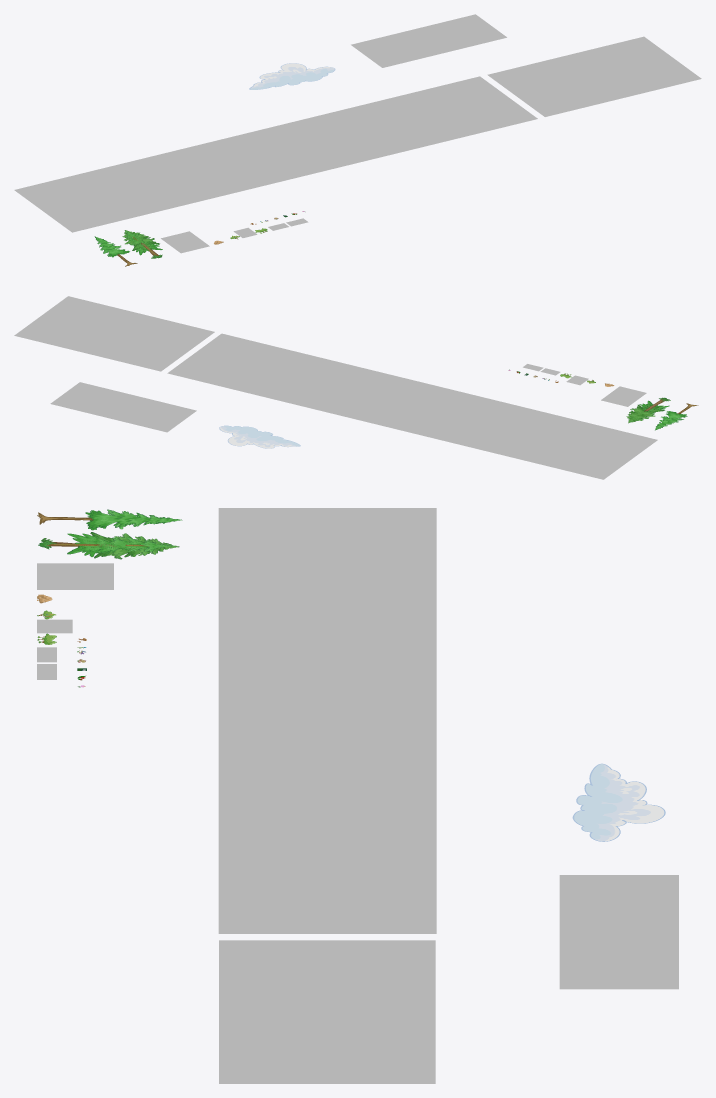
The model's file is bilboards_01.FBX.
3 renders of one model, top to bottom at view 1: azimuth 30°, elevation 25°; view 2: azimuth 150°, elevation 25°; view 3: azimuth 270°, elevation 25°, orthographic. The views are drawn at different scales.
Visible parts, largest first — view 1: mountain, bg_01, clouds_02, clouds_01, tree_04b; view 2: mountain, bg_01, clouds_02, clouds_01, tree_04b, tree_01b; view 3: mountain, bg_01, clouds_02, clouds_01, tree_04b, tree_02b, tree_03b.
Boxes of the visible parts, x1,y1,x2,y2 form: mountain: (14, 76, 537, 232); bg_01: (487, 36, 701, 116); clouds_02: (351, 14, 506, 67); clouds_01: (249, 63, 335, 89); tree_04b: (161, 231, 209, 253); mountain: (167, 333, 657, 479); bg_01: (14, 296, 214, 371); clouds_02: (50, 382, 196, 432); clouds_01: (219, 425, 300, 448); tree_04b: (601, 386, 646, 406); tree_01b: (626, 398, 670, 422); mountain: (218, 508, 436, 933); bg_01: (219, 940, 435, 1083); clouds_02: (559, 875, 678, 989); clouds_01: (572, 763, 665, 841); tree_04b: (37, 563, 113, 589); tree_02b: (39, 533, 175, 554); tree_03b: (39, 510, 182, 528).
Size of the model in its own units: 2685 by 1.14e-05 by 1265.
